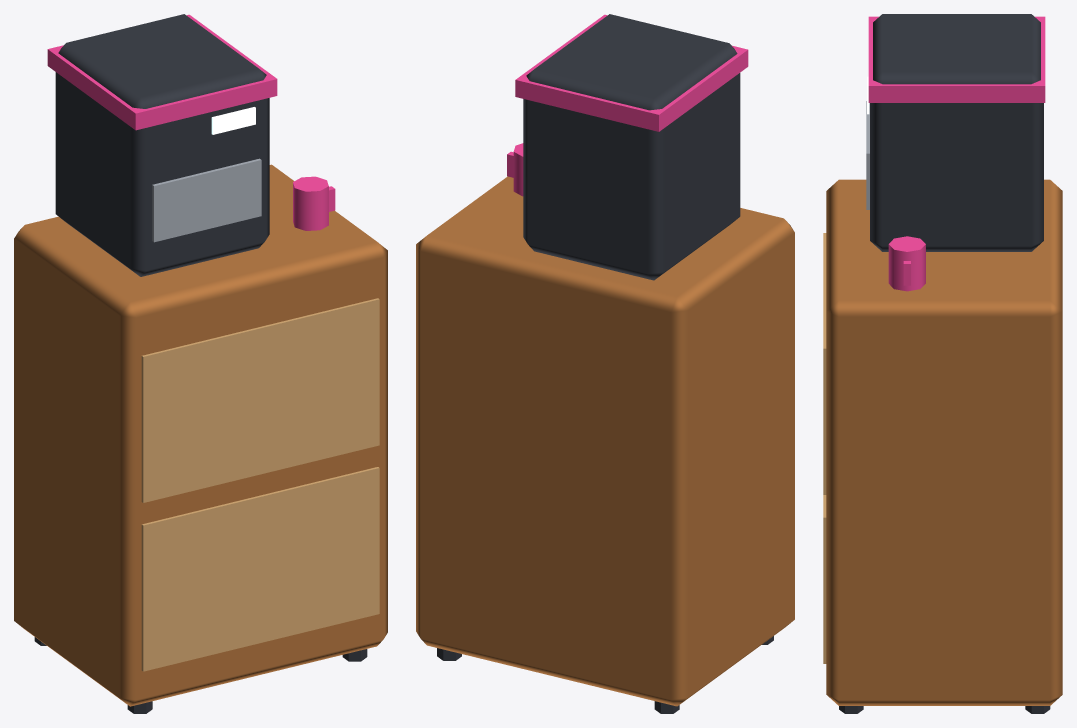
The model's file is station_special_ausstattung_3_1.glb.
The picture shows the model from 3 angles, left to right: view 1: azimuth 30°, elevation 25°; view 2: azimuth 150°, elevation 25°; view 3: azimuth 270°, elevation 25°; orthographic projection.
Parts seen in each view (by area): view 1: station_special_ausstattung_3_1; view 2: station_special_ausstattung_3_1; view 3: station_special_ausstattung_3_1.
Part boxes in pixels (bbox=[...]): station_special_ausstattung_3_1: bbox=[14, 14, 387, 713]; station_special_ausstattung_3_1: bbox=[416, 14, 794, 713]; station_special_ausstattung_3_1: bbox=[823, 14, 1062, 713].
Size of the model in its own units: 0.5 by 1.06 by 0.385.
